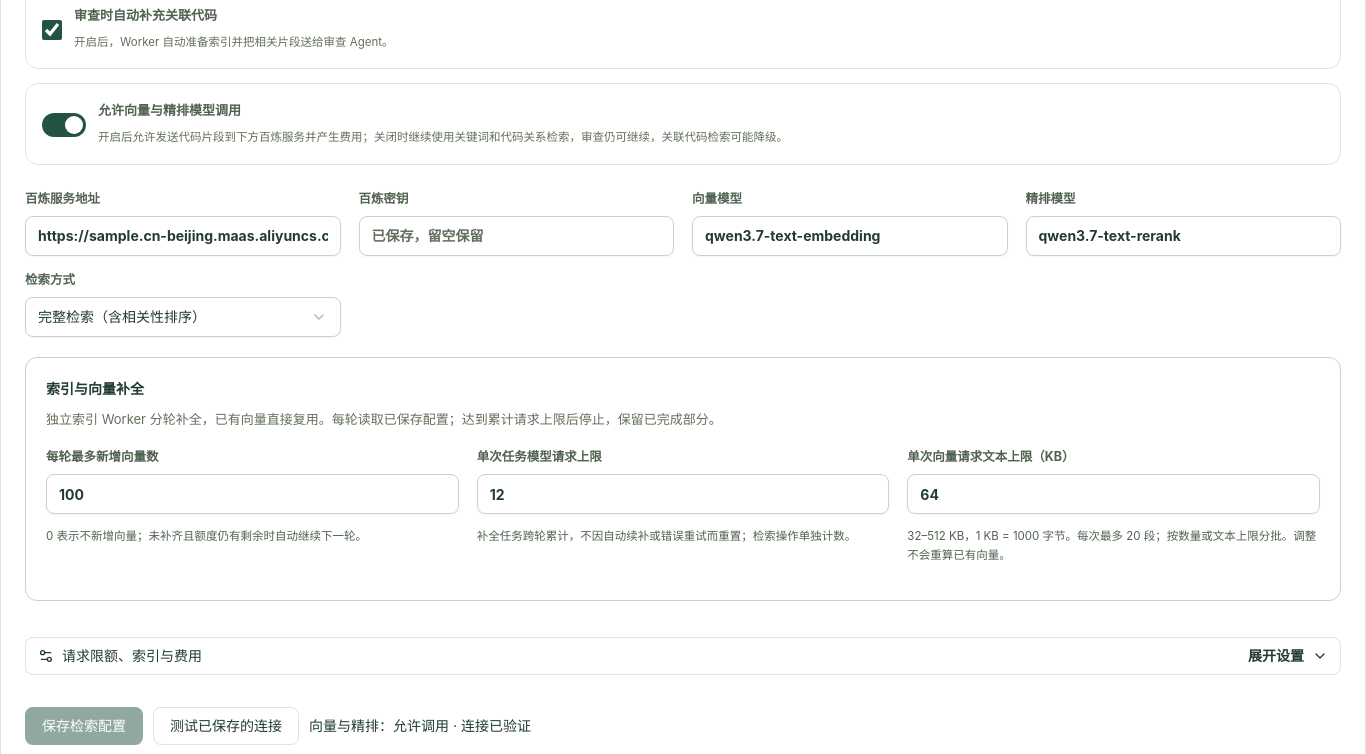
Test case: 补全限额直接可见，展开按钮明确且提示请求额度不足
(page scrolled)
Expected: the number field labelled "每轮最多新增向量数 0 表示不新增向量；未补齐且额度仍有剩余时自动继续下一轮。" holds "100", [46,474,459,514]
Click the button "请求限额、索引与费用 展开设置". click: [132, 656]
box: [25,637,1341,675]
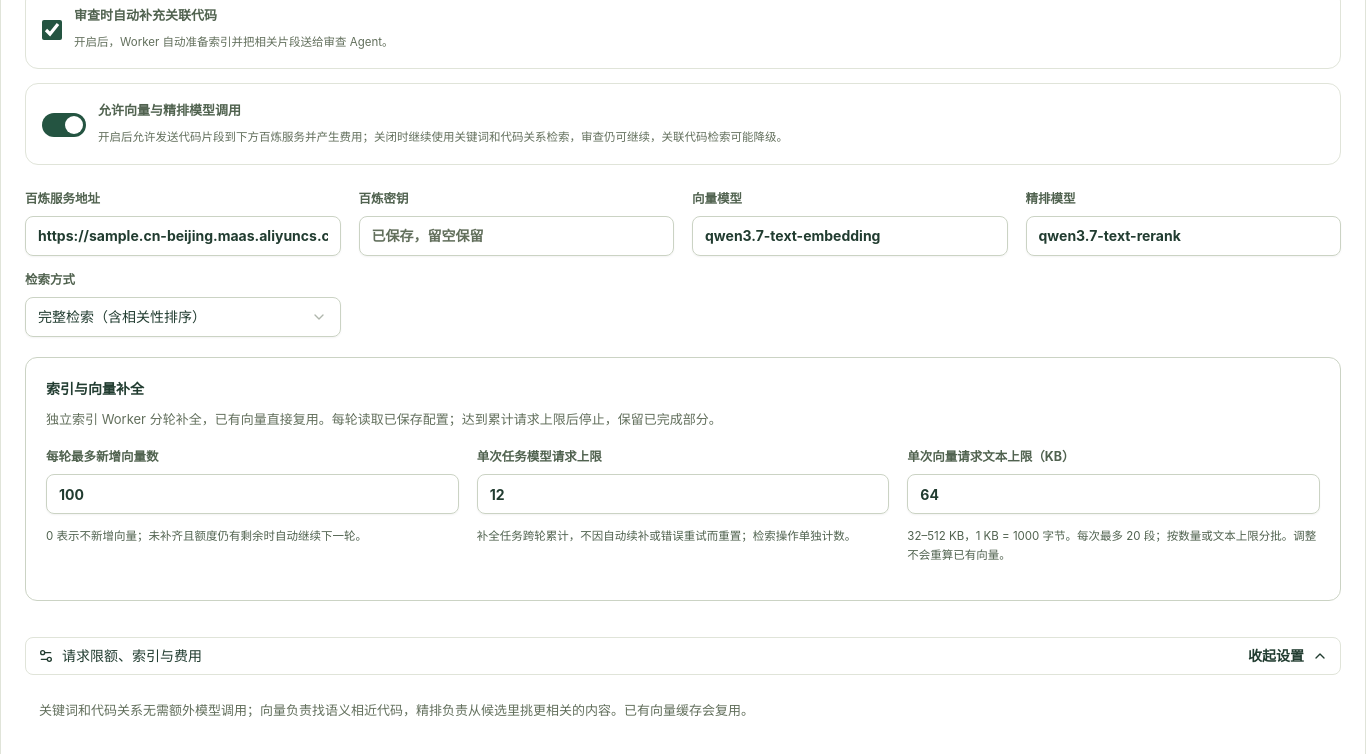
Result: the button "请求限额、索引与费用 收起设置" is expanded at [25,637,1341,675]
Replace the text in the number field labelled "每轮最多新增向量数 0 表示不新增向量；未补齐且额度仍有剩余时自动继续下一轮。" with "500". click: [252, 494]
box: [46,474,459,514]
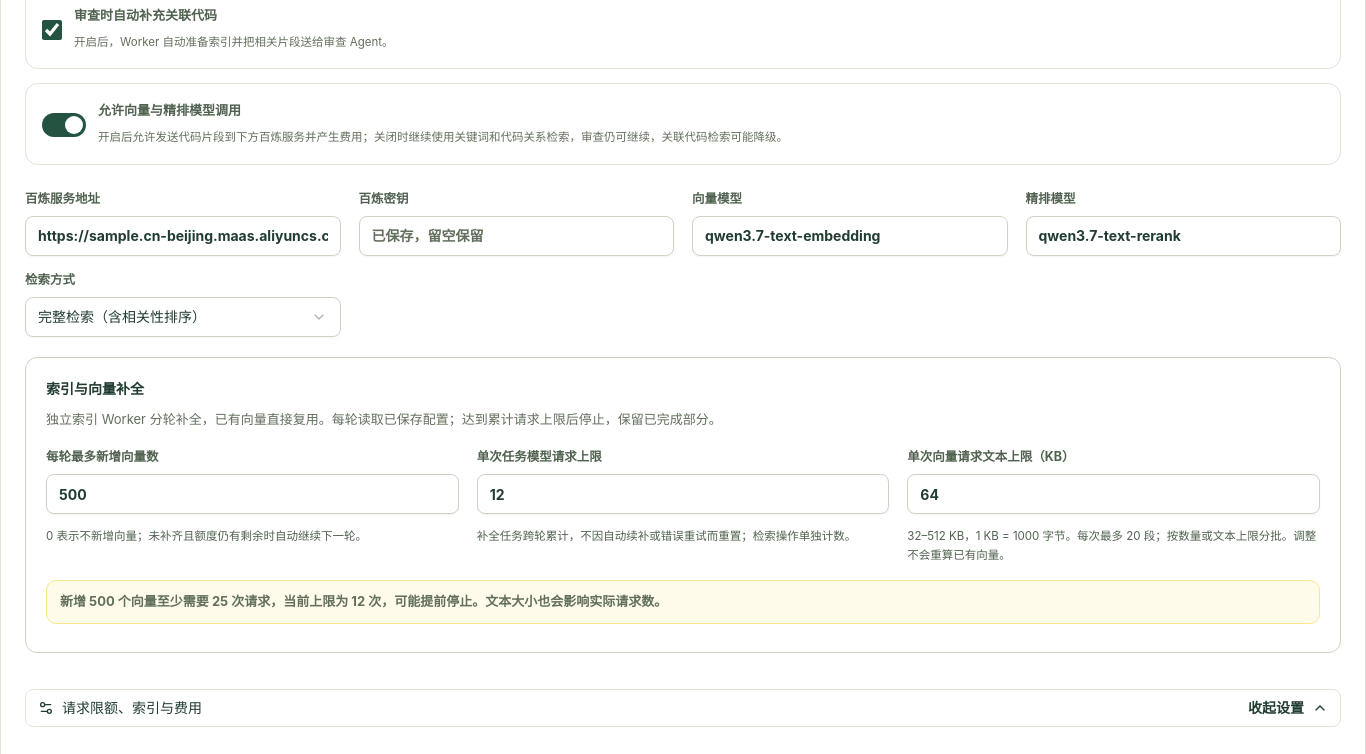
Result: the text "新增 500 个向量至少需要 25 次请求，当前上限为 12 次，可能提前停止。文本大小也会影响实际请求数。" is shown at [46,580,1320,624]
